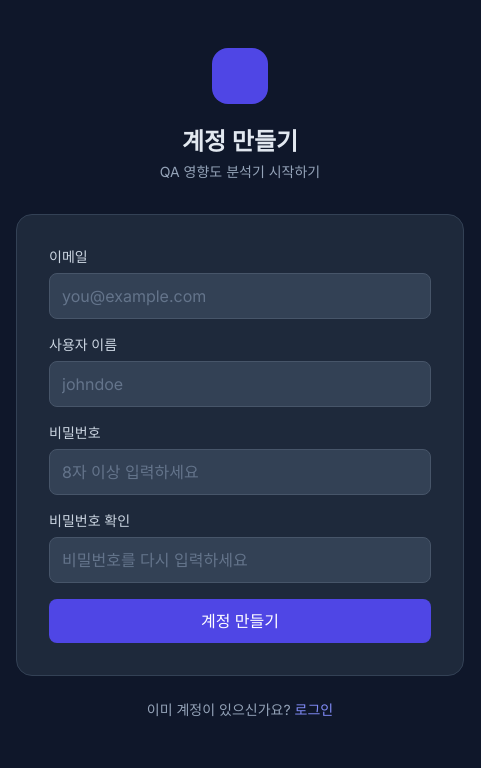
it: C10 — RegisterPage › error messages have role=alert for accessibility
The width and height of the screenshot is (481, 768).
Click the button with test id "register-btn": (240, 621) [49,599,431,643]
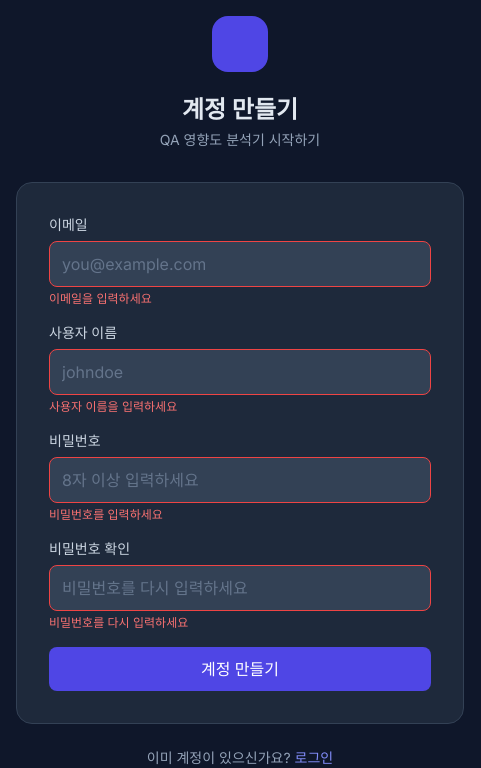
Expected: the message "이메일을 입력하세요" is shown, [49,291,152,306]
